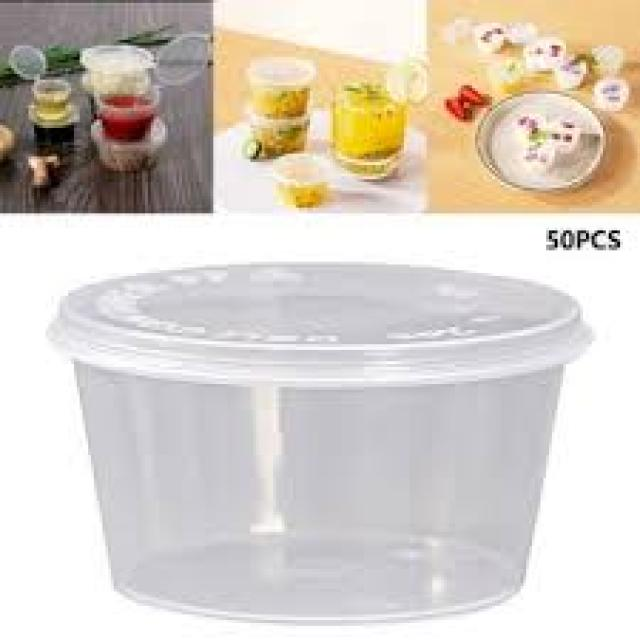disposable: (46, 236, 618, 640)
